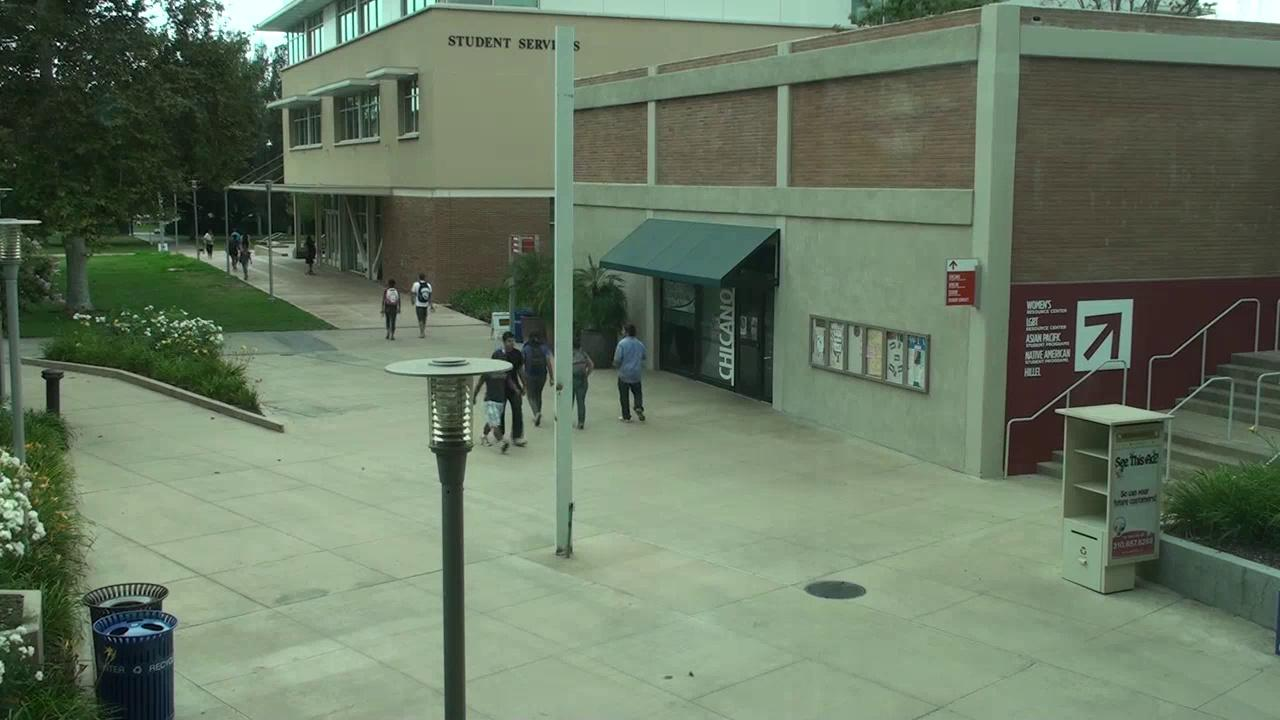person: (613, 324, 646, 421), (522, 332, 553, 425), (500, 332, 525, 446), (482, 371, 515, 452), (571, 337, 594, 428), (412, 273, 433, 337), (382, 279, 400, 339)
